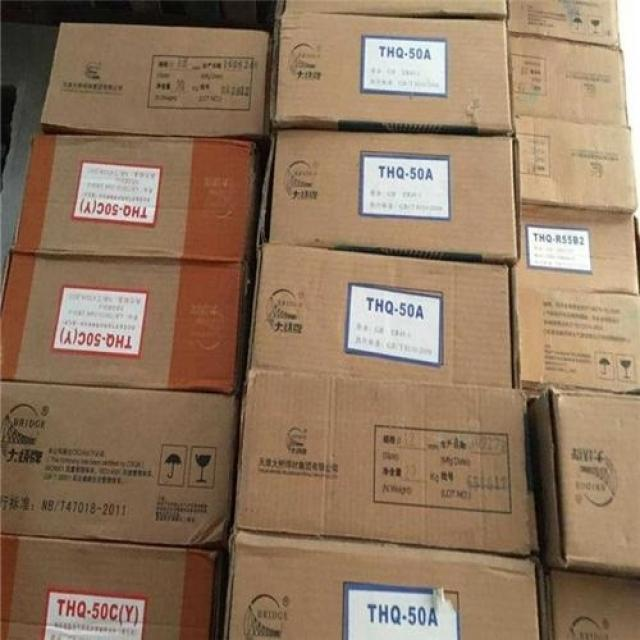box: (232, 368, 531, 556), (0, 380, 238, 545), (247, 243, 512, 387), (258, 130, 521, 268), (0, 248, 249, 392), (223, 531, 540, 639), (14, 134, 257, 262), (269, 11, 514, 134), (40, 22, 272, 138), (512, 203, 639, 396), (0, 534, 219, 639), (533, 386, 639, 576), (513, 114, 639, 214), (508, 33, 629, 126), (545, 569, 639, 638), (506, 0, 620, 48), (275, 0, 507, 20)
